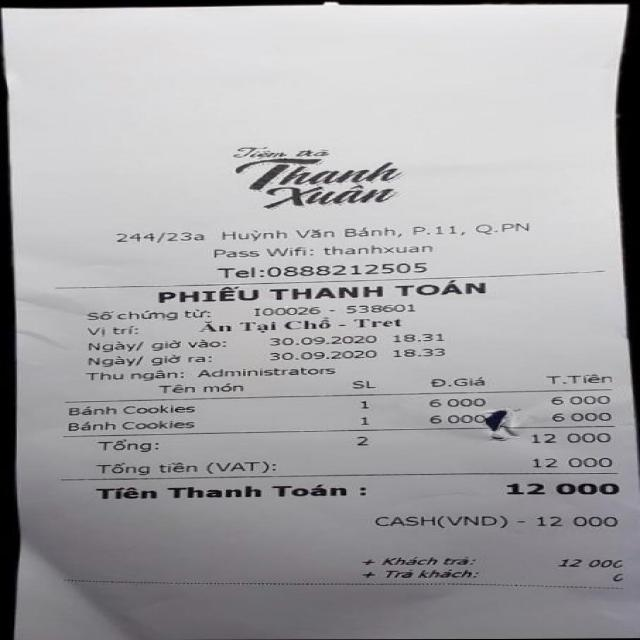Date: (258, 331, 386, 350)
Store_Name: (191, 129, 424, 216)
Total_Amount: (76, 430, 619, 457)
